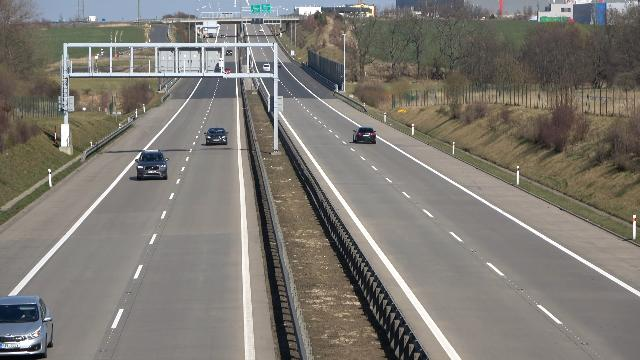car: (0, 294, 57, 360), (134, 146, 172, 183), (204, 127, 229, 146), (352, 126, 376, 144), (226, 49, 233, 56), (223, 69, 232, 74), (277, 62, 282, 67)
van: (261, 64, 270, 73)
